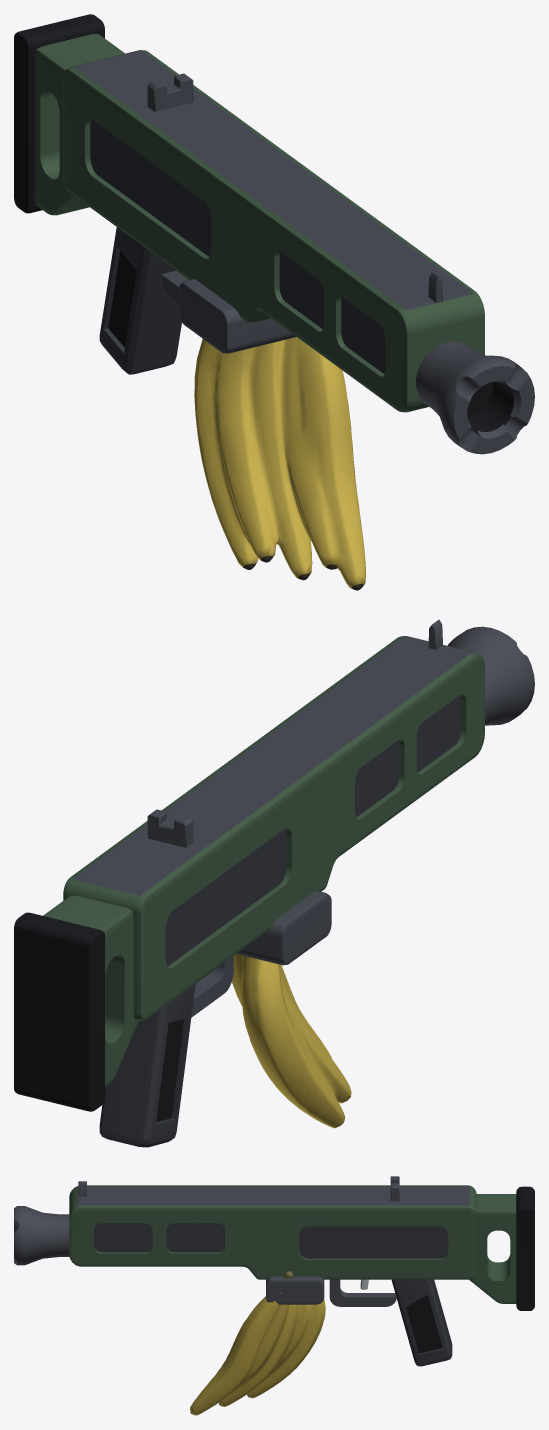
File: w_banana@banana_bunch.glb
The picture shows the model from 3 angles, top to bottom: view 1: azimuth 30°, elevation 25°; view 2: azimuth 150°, elevation 25°; view 3: azimuth 270°, elevation 25°; orthographic projection. The views are drawn at different scales.
Visible parts, largest first — view 1: body_wzA__body__p415a45, mag_wzN__nana__pc9b14a, body_wzB__frame__p444851, body_wzN__dark__p353840, muzzle_wzB__frame__p444851, grip_wzB__dark__p353840, stock_wzB__body__p415a45, stock_wzN__black__p16171b, mag_wzB__frame__p444851, muzzle_wzN__black__p16171b, sight_wzN__frame__p444851, grip_wzN__black__p16171b; view 2: body_wzA__body__p415a45, body_wzB__frame__p444851, stock_wzN__black__p16171b, body_wzN__dark__p353840, mag_wzN__nana__pc9b14a, grip_wzB__dark__p353840, stock_wzB__body__p415a45, muzzle_wzB__frame__p444851, mag_wzB__frame__p444851, sight_wzN__frame__p444851, grip_wzN__black__p16171b, guard_wzB__frame__p444851; view 3: body_wzA__body__p415a45, body_wzN__dark__p353840, mag_wzN__nana__pc9b14a, body_wzB__frame__p444851, stock_wzB__body__p415a45, muzzle_wzB__frame__p444851, grip_wzB__dark__p353840, stock_wzN__black__p16171b, mag_wzB__frame__p444851, grip_wzN__black__p16171b, guard_wzB__frame__p444851, sight_wzN__frame__p444851.
Boxes of the visible parts, x1=… form: body_wzA__body__p415a45: x1=63, y1=50, x2=484, y2=412; mag_wzN__nana__pc9b14a: x1=194, y1=337, x2=365, y2=588; body_wzB__frame__p444851: x1=73, y1=50, x2=473, y2=310; body_wzN__dark__p353840: x1=90, y1=119, x2=385, y2=374; muzzle_wzB__frame__p444851: x1=415, y1=341, x2=534, y2=454; grip_wzB__dark__p353840: x1=99, y1=227, x2=181, y2=374; stock_wzB__body__p415a45: x1=35, y1=34, x2=124, y2=215; stock_wzN__black__p16171b: x1=14, y1=14, x2=104, y2=213; mag_wzB__frame__p444851: x1=179, y1=279, x2=296, y2=353; muzzle_wzN__black__p16171b: x1=467, y1=381, x2=513, y2=432; sight_wzN__frame__p444851: x1=147, y1=73, x2=442, y2=302; grip_wzN__black__p16171b: x1=108, y1=251, x2=136, y2=347; body_wzA__body__p415a45: x1=63, y1=636, x2=484, y2=1020; body_wzB__frame__p444851: x1=73, y1=636, x2=472, y2=895; stock_wzN__black__p16171b: x1=14, y1=912, x2=104, y2=1111; body_wzN__dark__p353840: x1=165, y1=695, x2=460, y2=966; mag_wzN__nana__pc9b14a: x1=232, y1=954, x2=351, y2=1128; grip_wzB__dark__p353840: x1=99, y1=984, x2=195, y2=1147; stock_wzB__body__p415a45: x1=43, y1=895, x2=138, y2=1086; muzzle_wzB__frame__p444851: x1=447, y1=626, x2=534, y2=725; mag_wzB__frame__p444851: x1=236, y1=890, x2=331, y2=965; sight_wzN__frame__p444851: x1=147, y1=619, x2=442, y2=847; grip_wzN__black__p16171b: x1=156, y1=1019, x2=183, y2=1122; guard_wzB__frame__p444851: x1=191, y1=956, x2=233, y2=1017; body_wzA__body__p415a45: x1=69, y1=1185, x2=476, y2=1279; body_wzN__dark__p353840: x1=94, y1=1223, x2=448, y2=1258; mag_wzN__nana__pc9b14a: x1=190, y1=1292, x2=325, y2=1415; body_wzB__frame__p444851: x1=78, y1=1186, x2=470, y2=1205; stock_wzB__body__p415a45: x1=469, y1=1194, x2=516, y2=1303; muzzle_wzB__frame__p444851: x1=14, y1=1206, x2=69, y2=1265; grip_wzB__dark__p353840: x1=391, y1=1279, x2=452, y2=1366; stock_wzN__black__p16171b: x1=516, y1=1186, x2=534, y2=1310; mag_wzB__frame__p444851: x1=266, y1=1276, x2=324, y2=1304; grip_wzN__black__p16171b: x1=406, y1=1295, x2=442, y2=1353; guard_wzB__frame__p444851: x1=329, y1=1279, x2=396, y2=1306; sight_wzN__frame__p444851: x1=78, y1=1176, x2=399, y2=1201.
Bounding box in the file's own units: 0.0841 × 0.2855 × 0.5885.
